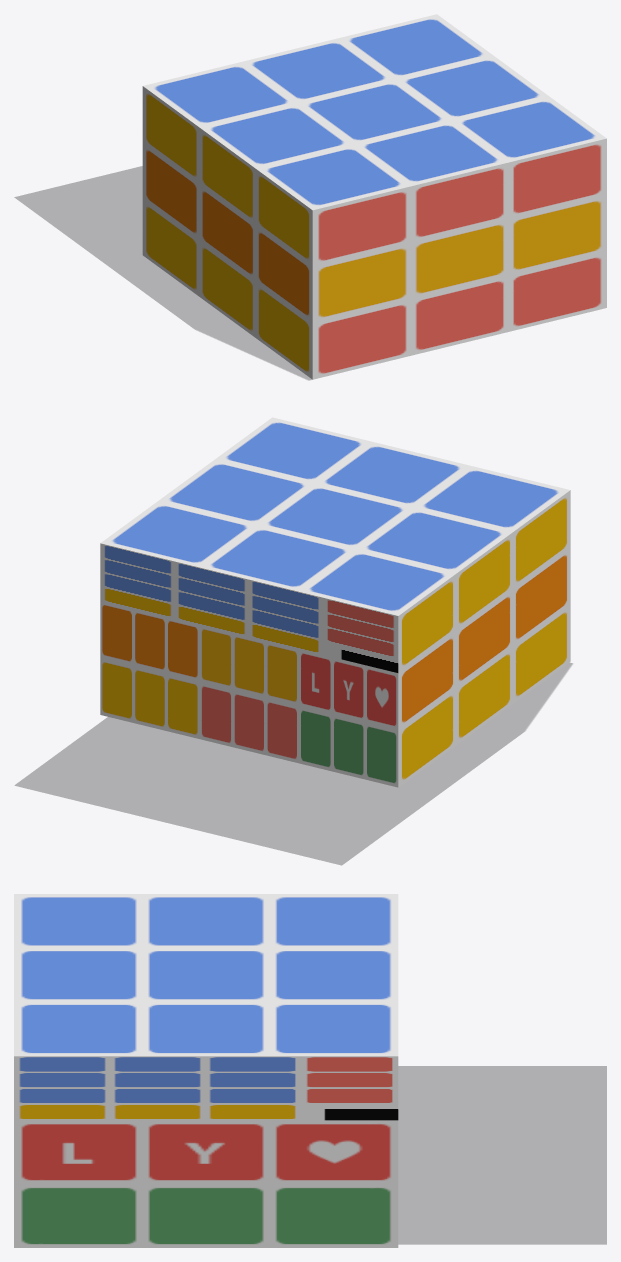
The model's file is block_17.glb.
The picture shows the model from 3 angles, top to bottom: view 1: azimuth 30°, elevation 25°; view 2: azimuth 150°, elevation 25°; view 3: azimuth 270°, elevation 25°; orthographic projection. The views are drawn at different scales.
Visible parts, largest first — view 1: hitObj, Object3D, block; view 2: hitObj, block, Object3D; view 3: hitObj, block, Object3D.
Boxes of the visible parts, box(x1,y1,x2,y2) form: hitObj: box(142, 14, 606, 379); Object3D: box(142, 143, 606, 323); block: box(14, 166, 311, 380); hitObj: box(100, 417, 570, 787); block: box(15, 663, 572, 865); Object3D: box(100, 547, 570, 730); hitObj: box(14, 894, 398, 1247); block: box(398, 1066, 606, 1244); Object3D: box(14, 1120, 398, 1183).
Bounding box in the file's own units: 11.24 × 5.52 × 15.43.
Materials: 4 (4 with a texture image).
